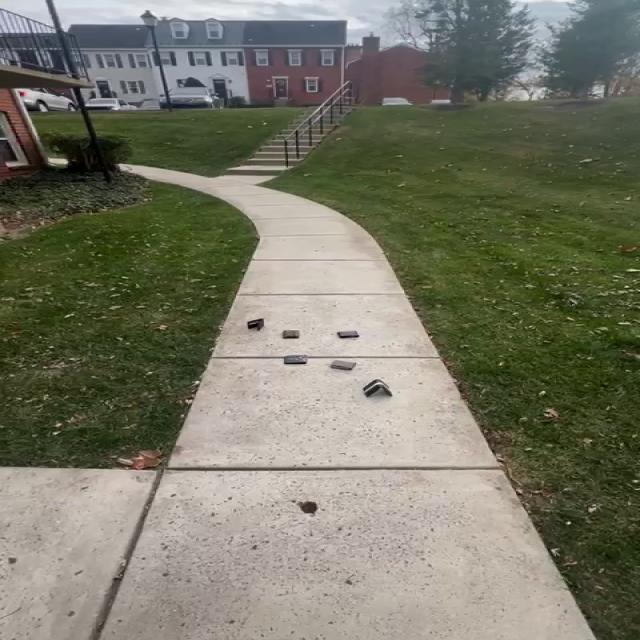wallet: (362, 378, 396, 397), (244, 316, 268, 332), (279, 330, 304, 339), (333, 360, 354, 370), (283, 355, 307, 363), (339, 331, 359, 338)
